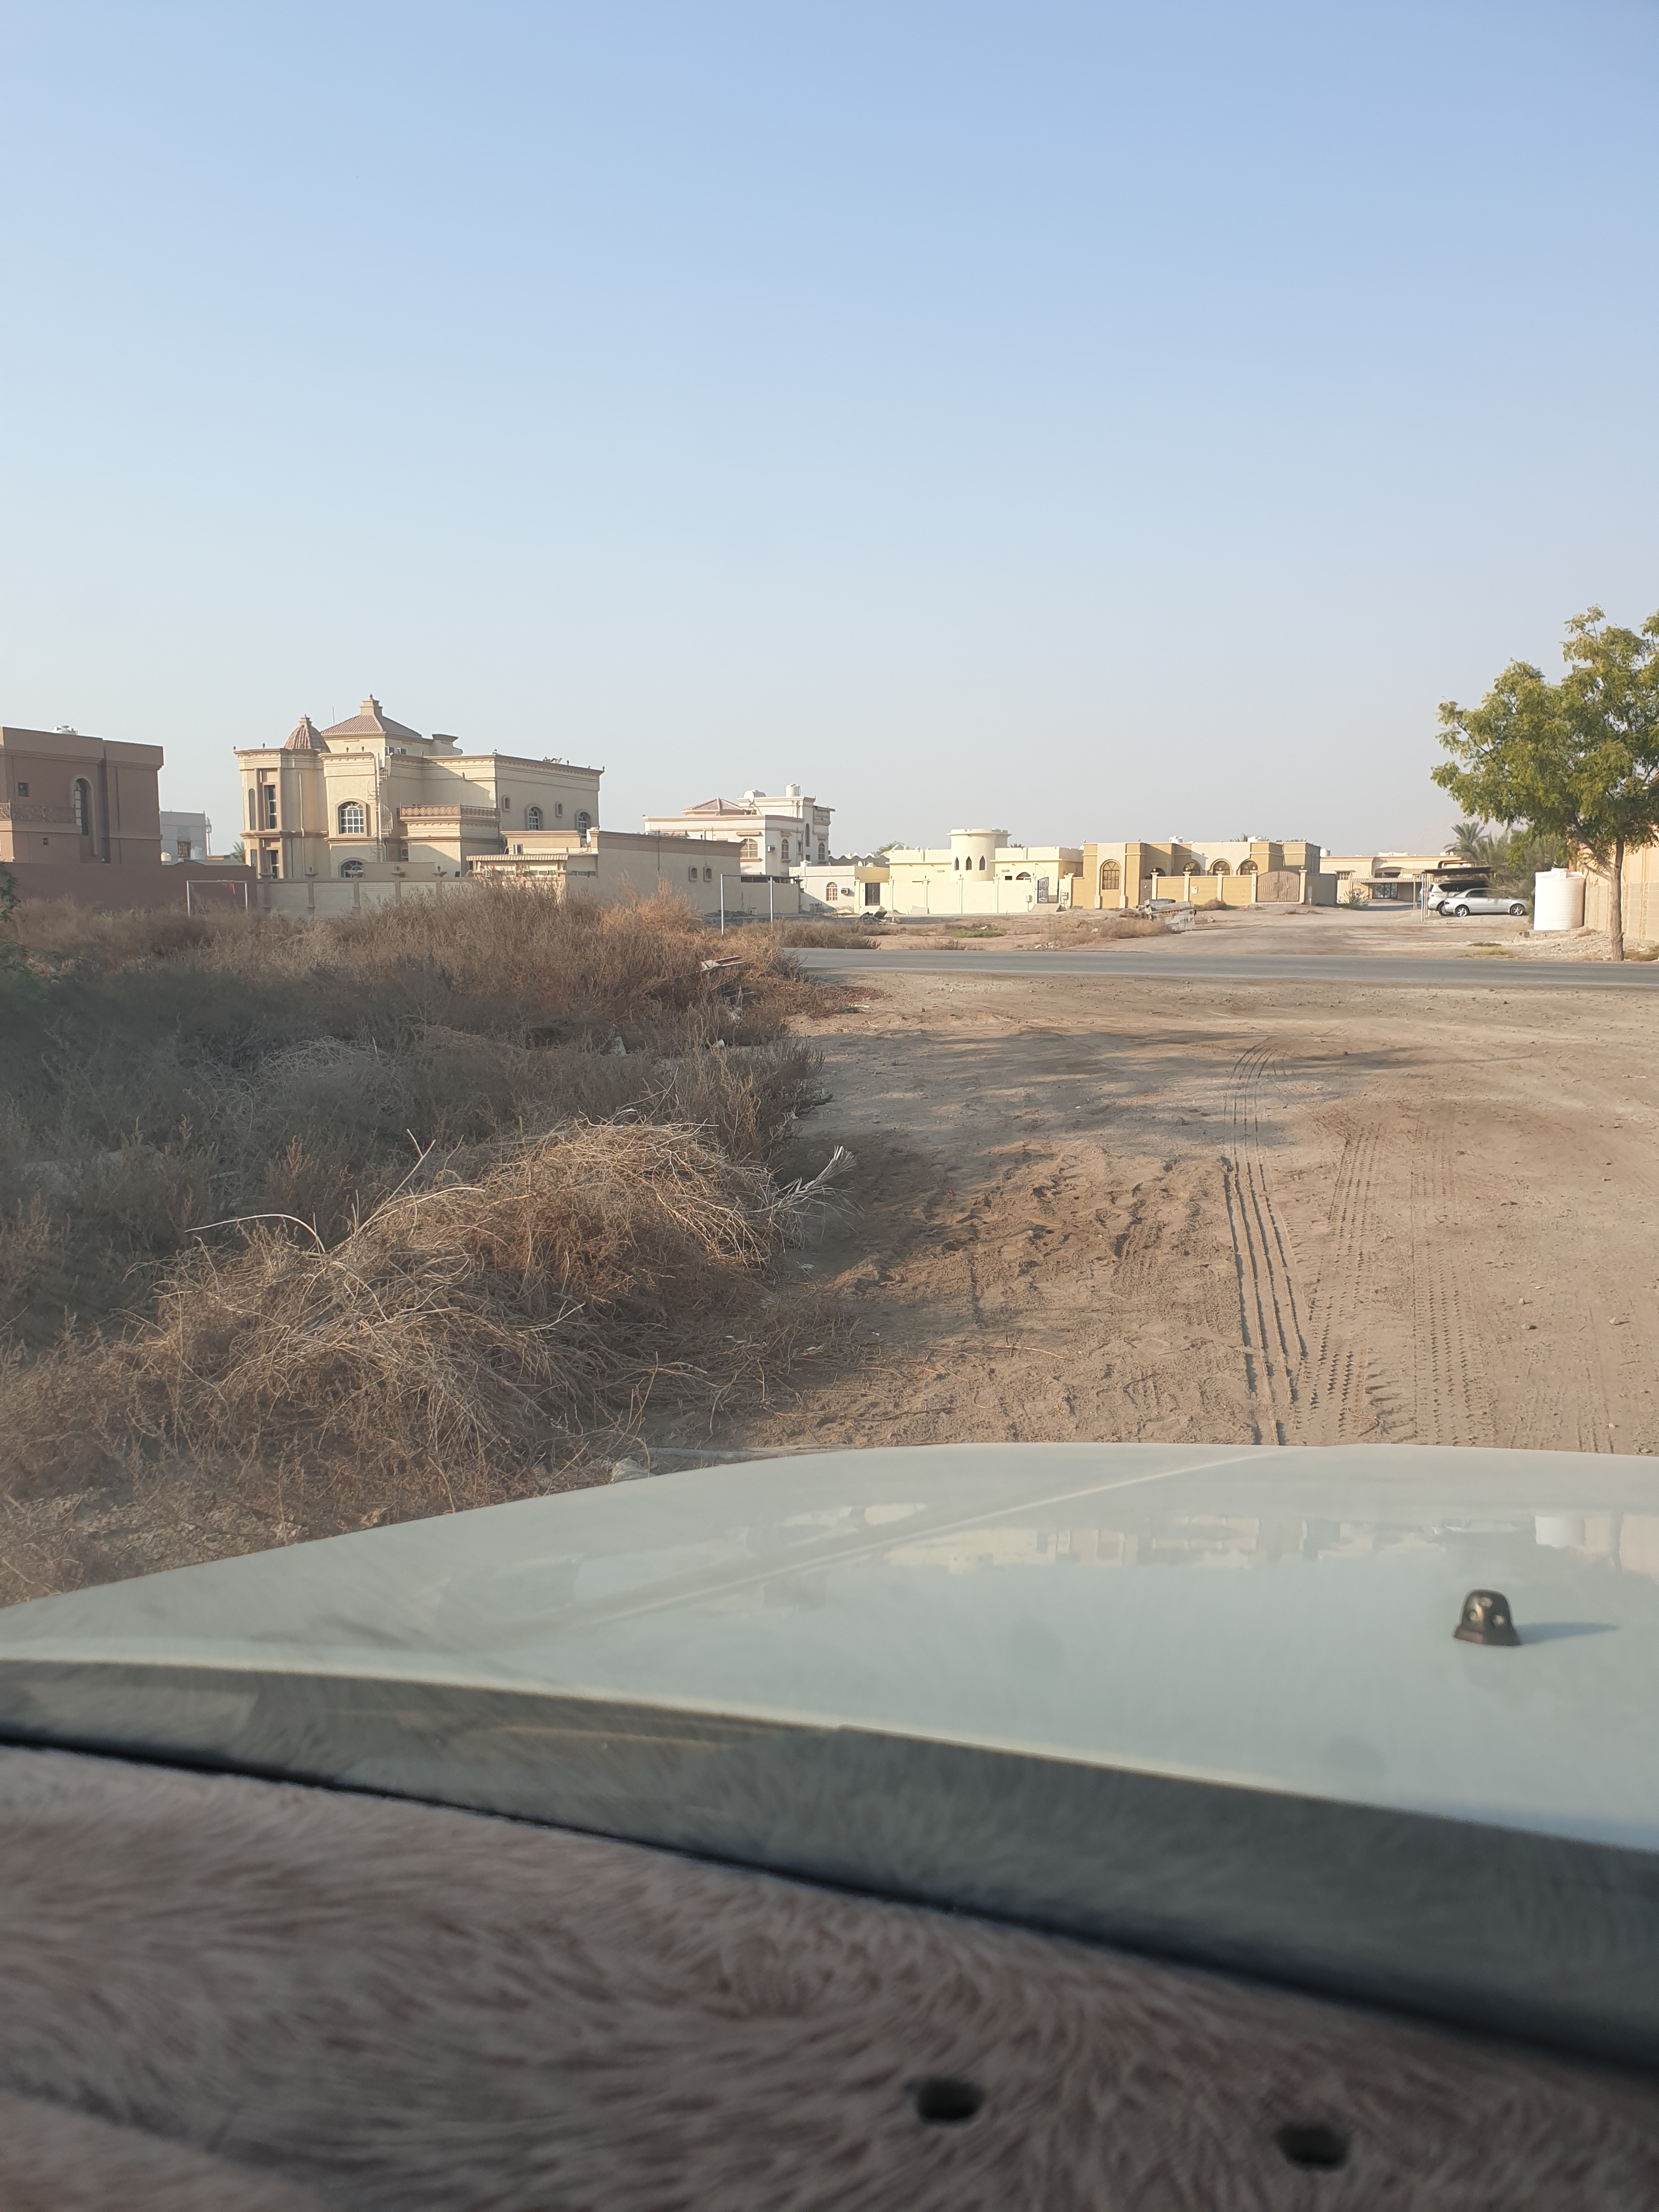fallen_trees: (218, 1163, 1009, 1420), (678, 1038, 1019, 1285)
